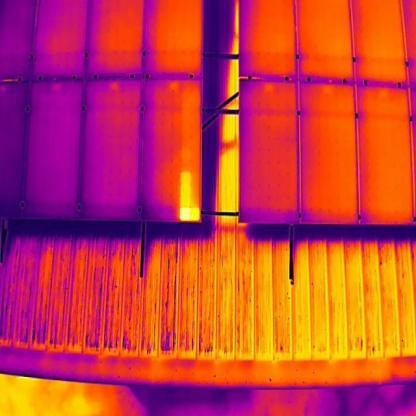anomaly: (176, 170, 205, 223)
